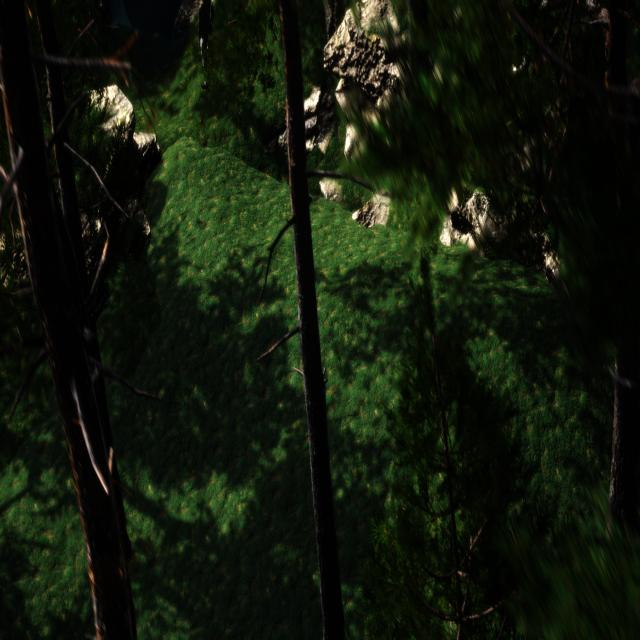Human: (195, 0, 218, 104)
